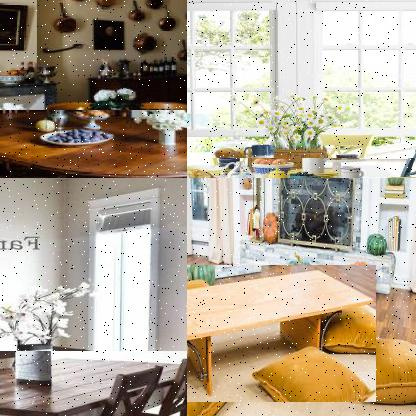table: (187, 265, 377, 404), (0, 110, 186, 177), (0, 351, 186, 415)
